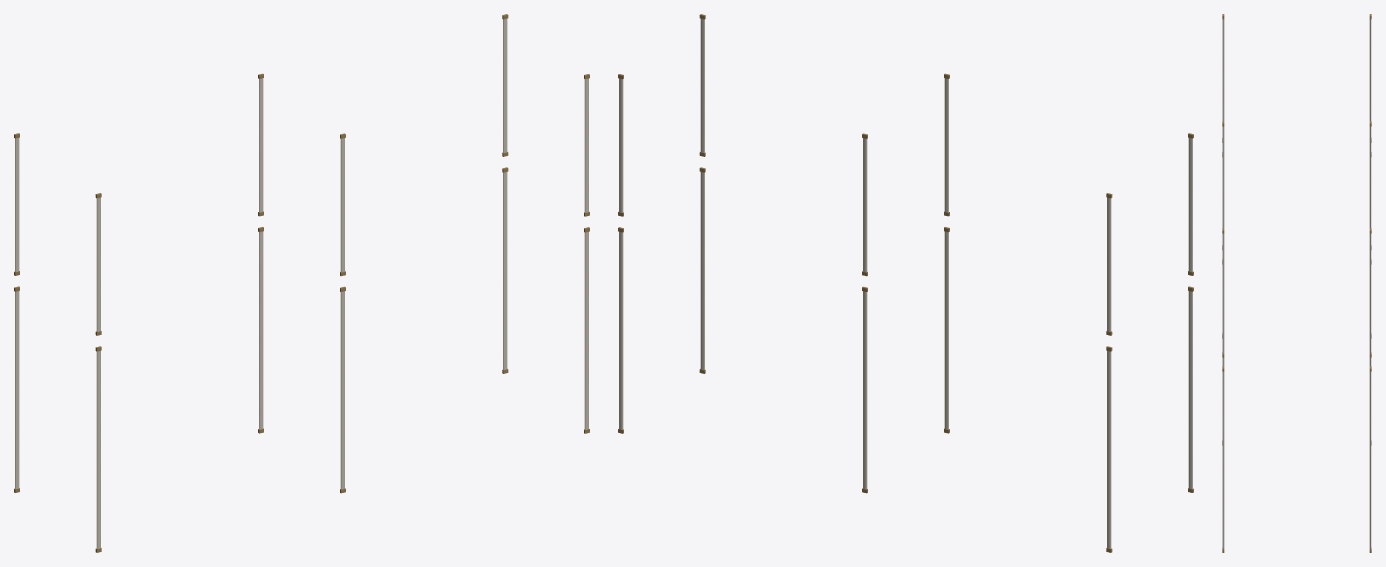
Rendered from AUDIT_AST-TRM-G4-033_theater_stacked_side_receivers_r001.glb.
3 renders of one model, left to right at view 1: azimuth 30°, elevation 25°; view 2: azimuth 150°, elevation 25°; view 3: azimuth 270°, elevation 25°, orthographic. The views are drawn at different scales.
Parts seen in each view (by area): view 1: D11_to_D12_SidePier_-19_-128.9, D11_to_D12_SidePier_-19_-123.1, D11_to_D12_SidePier_-9_-123.1, D11_to_D12_SidePier_-29_-128.9, D11_to_D12_SidePier_-29_-123.1, D11_to_D12_SidePier_-9_-128.9; view 2: D11_to_D12_SidePier_-19_-128.9, D11_to_D12_SidePier_-19_-123.1, D11_to_D12_SidePier_-9_-128.9, D11_to_D12_SidePier_-29_-128.9, D11_to_D12_SidePier_-29_-123.1, D11_to_D12_SidePier_-9_-123.1; view 3: D11_to_D12_SidePier_-9_-128.9, D11_to_D12_SidePier_-9_-123.1, D12_to_D13_SidePier_-9_-128.9, D12_to_D13_SidePier_-9_-123.1, D12_to_D13_SidePier_-29_-128.9, D12_to_D13_SidePier_-29_-123.1, D12_to_D13_SidePier_-19_-128.9, D12_to_D13_SidePier_-19_-123.1.
Boxes of the visible parts, box(x1,y1,x2,y2) form: D11_to_D12_SidePier_-19_-128.9: box(259, 231, 263, 429); D11_to_D12_SidePier_-19_-123.1: box(340, 291, 344, 489); D11_to_D12_SidePier_-9_-123.1: box(584, 231, 588, 429); D11_to_D12_SidePier_-29_-128.9: box(15, 291, 19, 489); D11_to_D12_SidePier_-29_-123.1: box(96, 351, 100, 548); D11_to_D12_SidePier_-9_-128.9: box(503, 172, 507, 369); D11_to_D12_SidePier_-19_-128.9: box(863, 291, 867, 489); D11_to_D12_SidePier_-19_-123.1: box(944, 231, 948, 429); D11_to_D12_SidePier_-9_-128.9: box(619, 231, 623, 429); D11_to_D12_SidePier_-29_-128.9: box(1107, 351, 1111, 548); D11_to_D12_SidePier_-29_-123.1: box(1188, 291, 1192, 489); D11_to_D12_SidePier_-9_-123.1: box(700, 172, 704, 369); D11_to_D12_SidePier_-9_-128.9: box(1369, 371, 1371, 549); D11_to_D12_SidePier_-9_-123.1: box(1222, 371, 1224, 549); D12_to_D13_SidePier_-9_-128.9: box(1369, 233, 1371, 353); D12_to_D13_SidePier_-9_-123.1: box(1222, 233, 1224, 353); D12_to_D13_SidePier_-29_-128.9: box(1369, 19, 1371, 121); D12_to_D13_SidePier_-29_-123.1: box(1222, 19, 1224, 121); D12_to_D13_SidePier_-19_-128.9: box(1369, 126, 1371, 228); D12_to_D13_SidePier_-19_-123.1: box(1222, 126, 1224, 228).
Bounding box in the file's own units: 20.2 × 14.02 × 5.88.
Materials: 2 (2 with a texture image).
